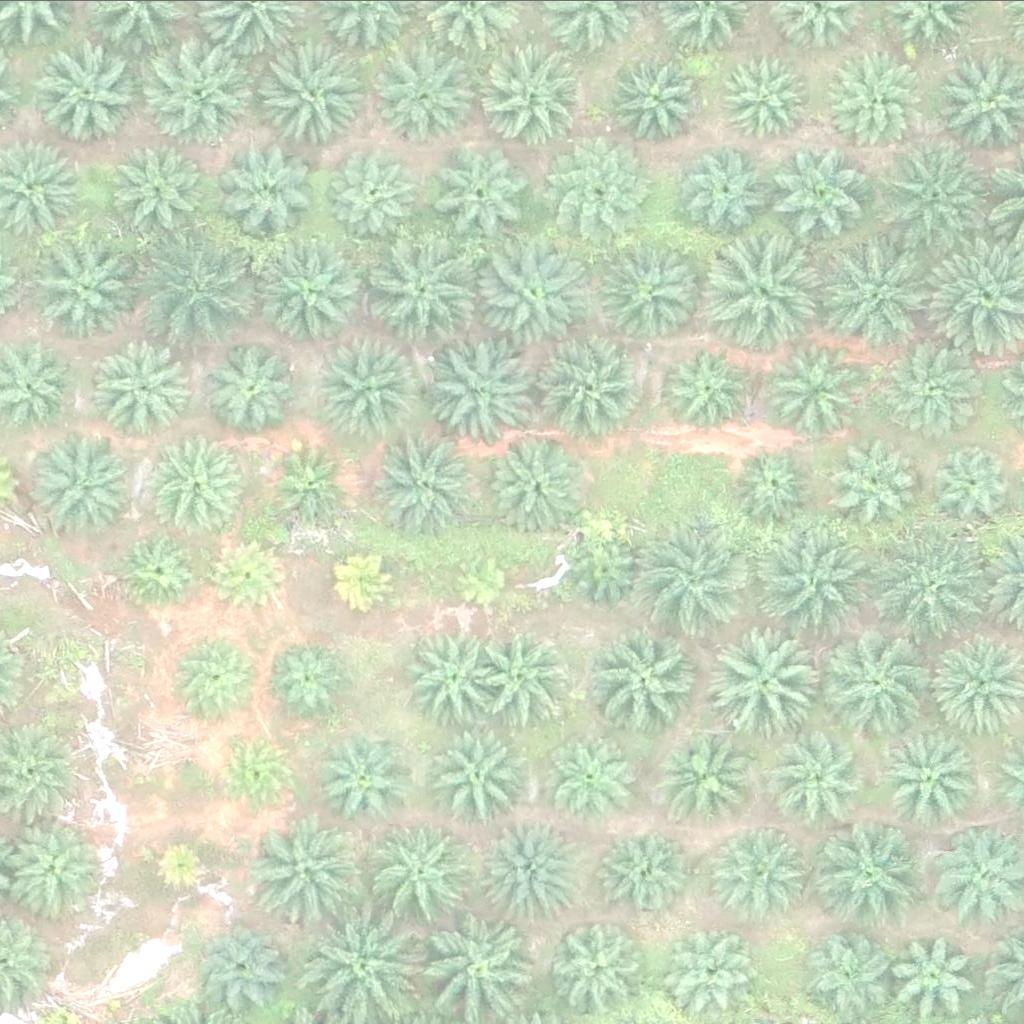Kelapa_Sawit: (481, 233, 595, 346), (365, 426, 479, 539), (758, 519, 872, 632), (586, 622, 700, 735), (363, 230, 476, 343), (700, 233, 813, 346), (431, 328, 544, 441), (714, 629, 827, 742), (146, 35, 259, 148), (27, 232, 140, 345), (150, 231, 263, 344), (313, 910, 426, 1023), (268, 37, 382, 149), (879, 140, 992, 252), (821, 235, 934, 347), (637, 517, 750, 629), (877, 529, 990, 641), (821, 627, 934, 739), (249, 814, 362, 926), (833, 44, 934, 144), (774, 146, 875, 246), (601, 240, 702, 340), (318, 340, 419, 440), (541, 327, 642, 427), (482, 426, 583, 526), (402, 626, 503, 726), (315, 732, 416, 832), (431, 725, 532, 825), (655, 725, 756, 825), (772, 723, 873, 823), (883, 727, 984, 827), (371, 819, 472, 919), (704, 822, 805, 922), (823, 823, 924, 923), (544, 914, 645, 1014), (217, 138, 318, 238), (86, 334, 187, 434), (209, 341, 310, 441), (38, 436, 139, 536), (146, 437, 247, 537), (483, 38, 583, 138), (323, 144, 423, 244), (486, 823, 586, 923), (35, 44, 135, 144), (260, 236, 360, 336), (103, 134, 203, 234), (5, 813, 105, 913), (381, 44, 482, 143), (553, 734, 642, 822), (609, 55, 697, 143), (722, 54, 810, 142), (566, 149, 654, 237), (436, 150, 524, 238), (887, 344, 975, 432), (838, 435, 926, 523), (932, 439, 1020, 527), (567, 521, 655, 609), (482, 629, 570, 717), (597, 829, 685, 917), (170, 630, 258, 718), (262, 630, 350, 718), (202, 532, 290, 620), (113, 524, 201, 612), (195, 917, 283, 1005), (668, 344, 757, 431), (681, 143, 769, 230), (783, 340, 871, 427), (735, 441, 823, 528), (665, 929, 753, 1016), (806, 929, 894, 1016), (894, 932, 982, 1019), (212, 730, 300, 817), (262, 440, 350, 527), (324, 540, 400, 615), (153, 837, 216, 900), (453, 548, 516, 610)
